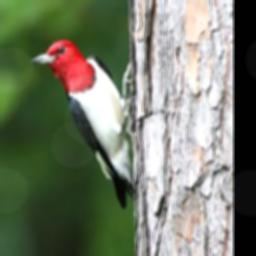Woodpecker: (26, 38, 139, 207)
